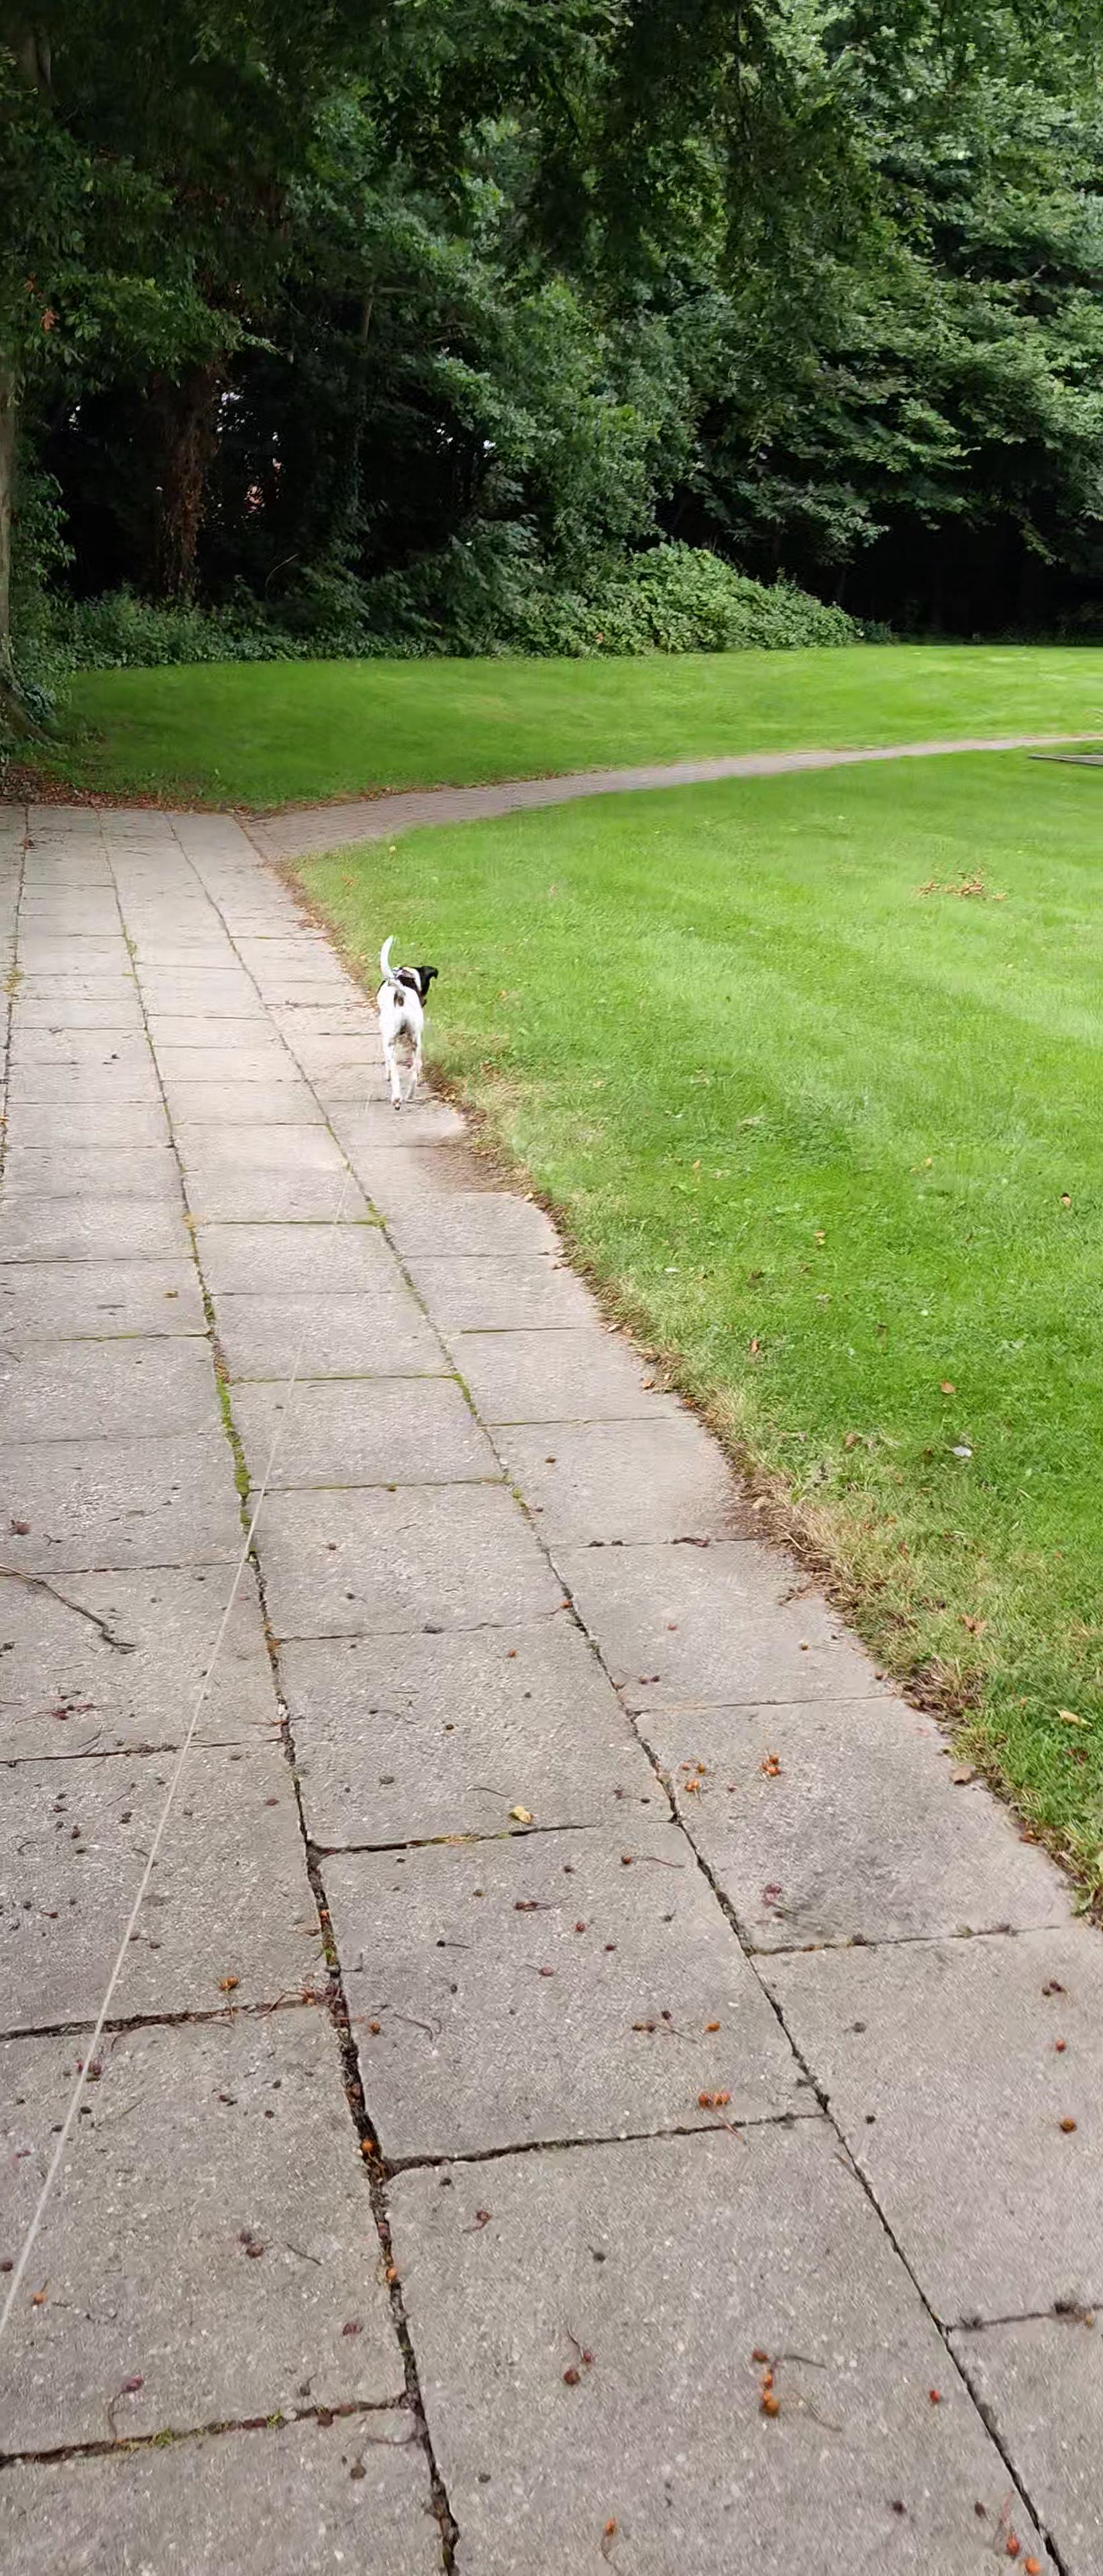Dog: (368, 931, 444, 1112)
